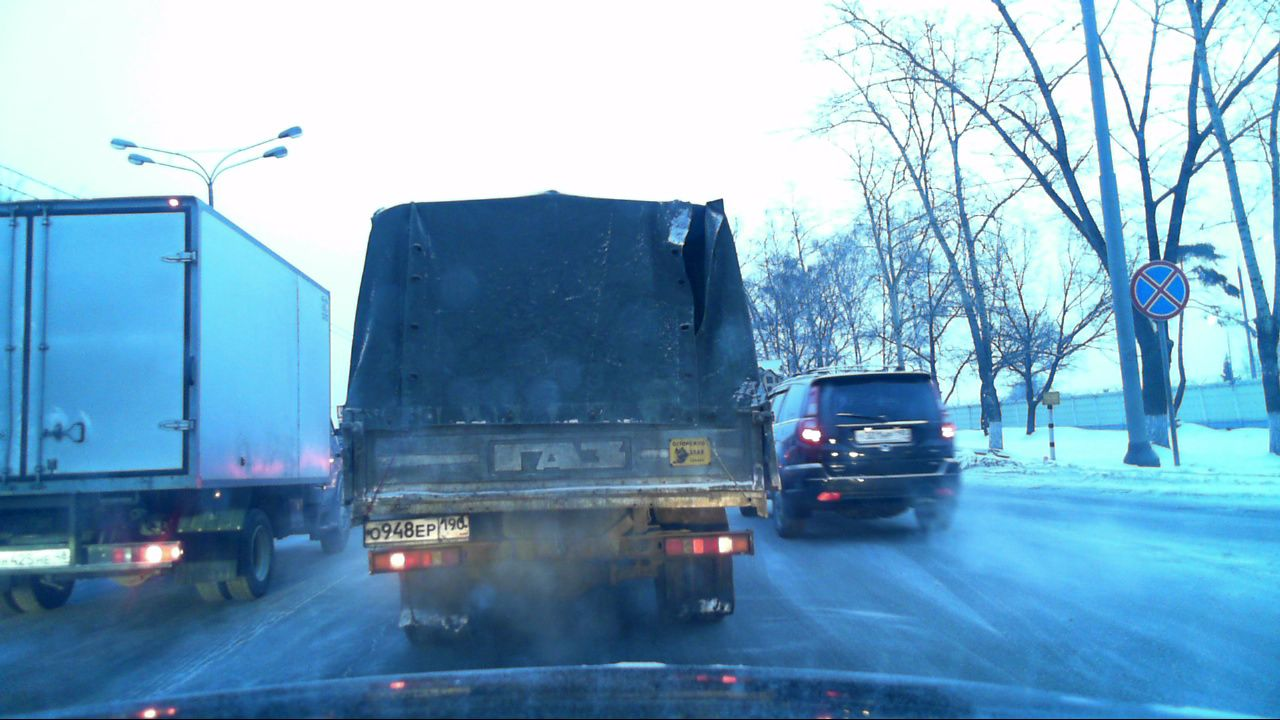No Parking: (1131, 261, 1189, 320)
